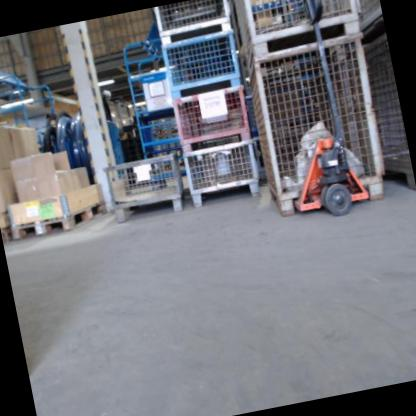pallet: (6, 198, 109, 244)
pallet_truck: (250, 0, 384, 227)
stillage: (243, 30, 387, 217), (352, 28, 416, 202), (231, 0, 365, 58), (157, 27, 246, 101), (103, 149, 187, 225), (169, 82, 253, 152), (182, 139, 264, 208), (153, 0, 236, 44), (351, 0, 386, 38)
